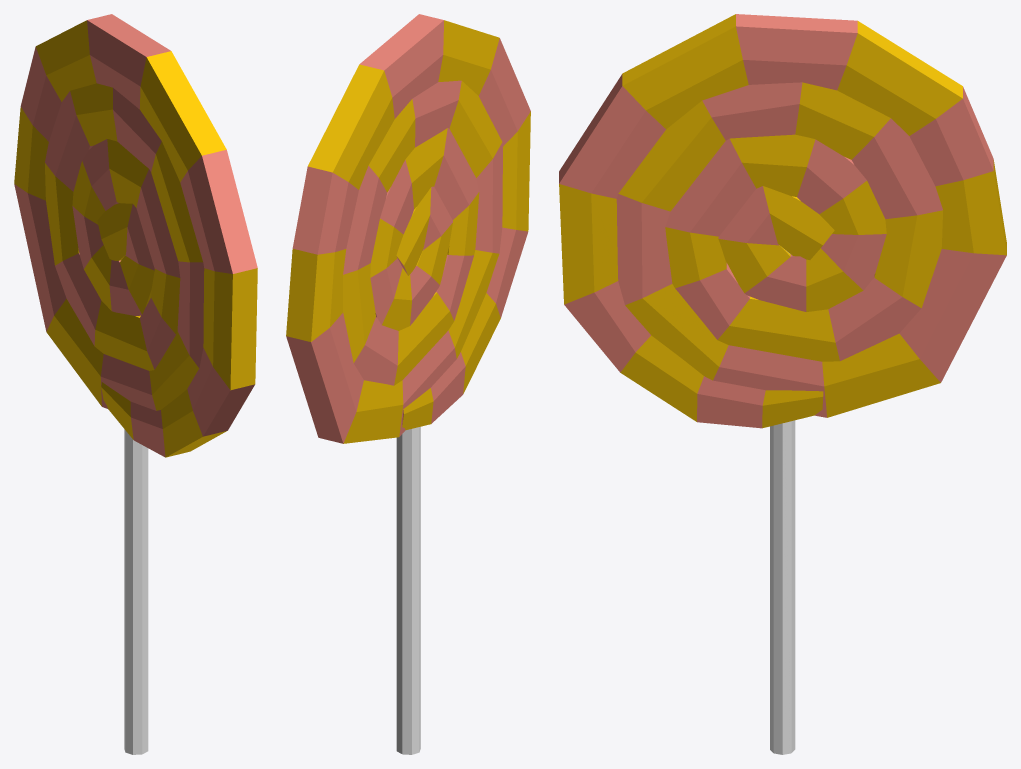
Rendered from Lollipop.gltf.
3 views of the same model, side by side, from view 1: azimuth 30°, elevation 25°; view 2: azimuth 150°, elevation 25°; view 3: azimuth 270°, elevation 25° (orthographic). The views are drawn at different scales.
Parts seen in each view (by area): view 1: node-0; view 2: node-0; view 3: node-0.
Boxes of the visible parts, x1=… form: node-0: x1=14, y1=14, x2=257, y2=754; node-0: x1=286, y1=14, x2=530, y2=754; node-0: x1=559, y1=14, x2=1006, y2=754.
Bounding box in the file's own units: 0.4379 × 9.92 × 5.52.
